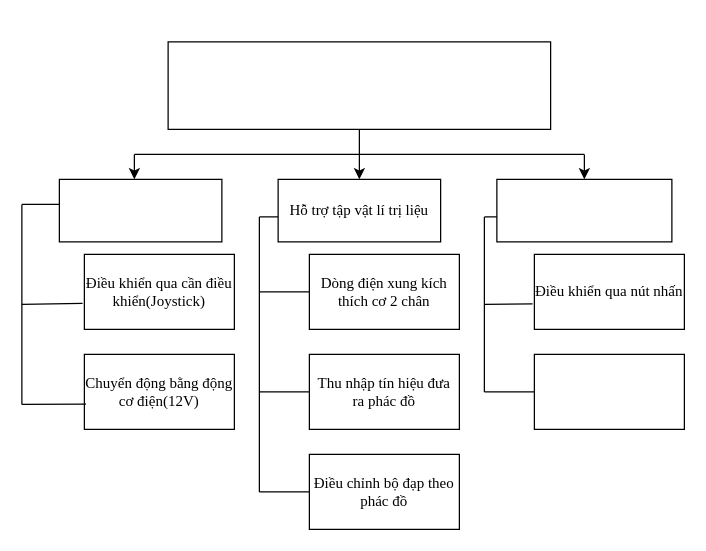
Image size: 706x551. Some labels were removed from this diagram. Here are the shapes that lost their labels. From the top down, the centre of each, then its label:
(359,85): Xe lăn hỗ trợ người hạn chế vận động sau tổn thương tủy sống
(140,210): Phương tiện di chuyển
(584,210): Hệ thống massage
